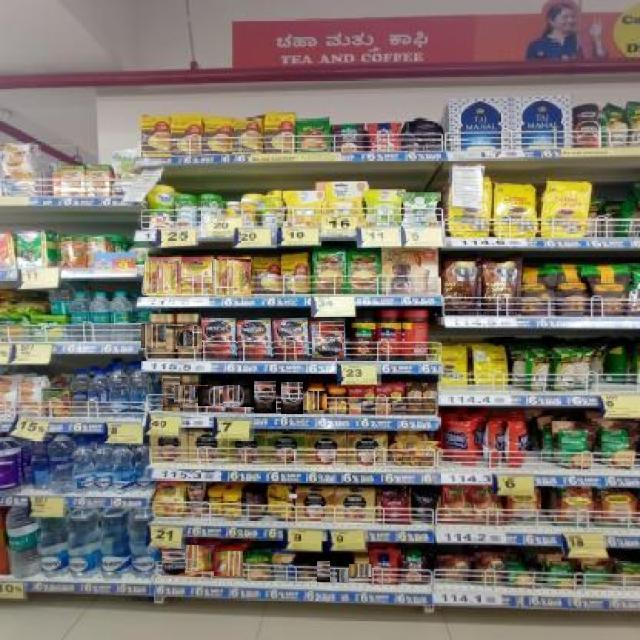Coffee: (212, 260, 251, 295), (180, 257, 212, 298), (202, 319, 236, 357), (274, 319, 308, 357), (238, 319, 271, 357), (311, 321, 344, 358), (143, 261, 181, 293), (166, 325, 211, 349), (140, 324, 183, 348), (157, 481, 185, 516), (185, 546, 216, 571), (253, 380, 276, 413), (280, 381, 303, 414), (214, 550, 243, 576), (222, 385, 254, 407), (198, 385, 230, 406), (161, 548, 185, 575), (162, 377, 180, 411), (174, 385, 208, 403), (302, 391, 327, 410), (328, 388, 346, 414), (350, 563, 372, 577), (316, 560, 330, 582), (337, 568, 349, 582)
